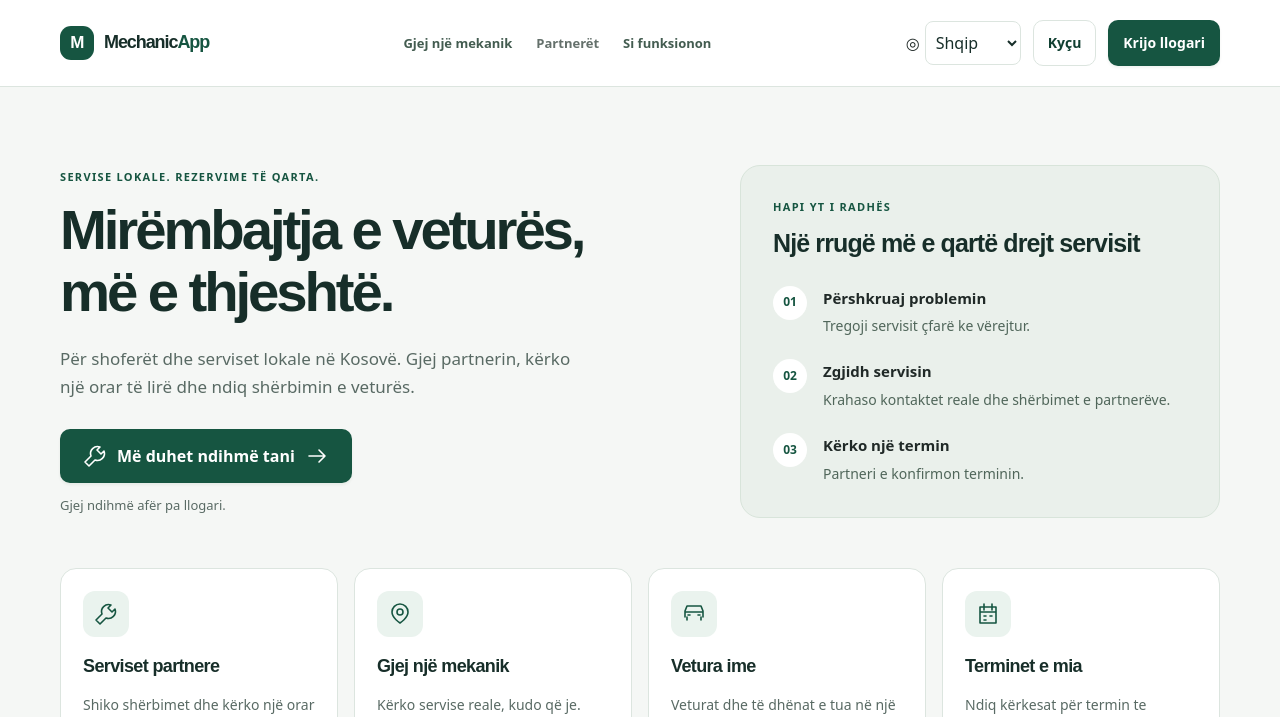
Test: changes UI language without reloading and saves the manual preference
Select "Deutsch" in the dropdown named "Language / Gjuha / Sprache" at [973, 43], box [925, 21, 1021, 65]
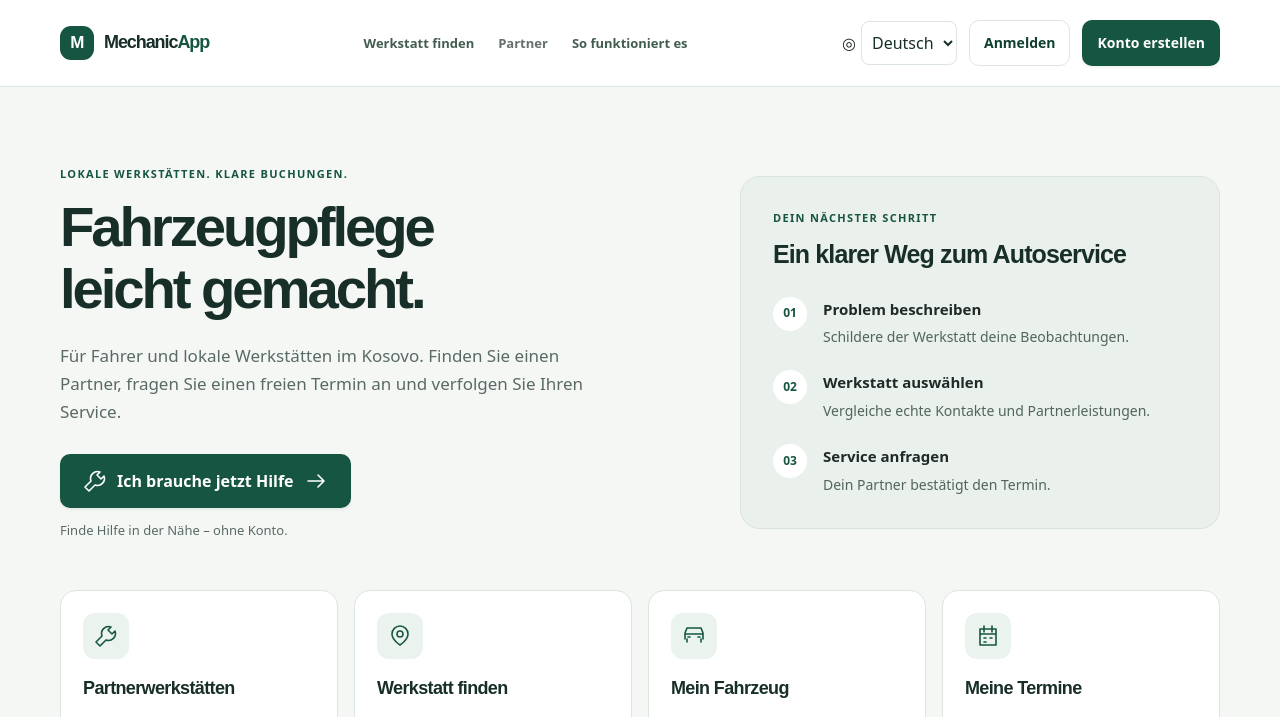
Expected: the heading "Fahrzeugpflege leicht gemacht." is shown, [60, 195, 433, 320]
Select "English" in the dropdown named "Language / Gjuha / Sprache" at [909, 43], box [861, 21, 957, 65]
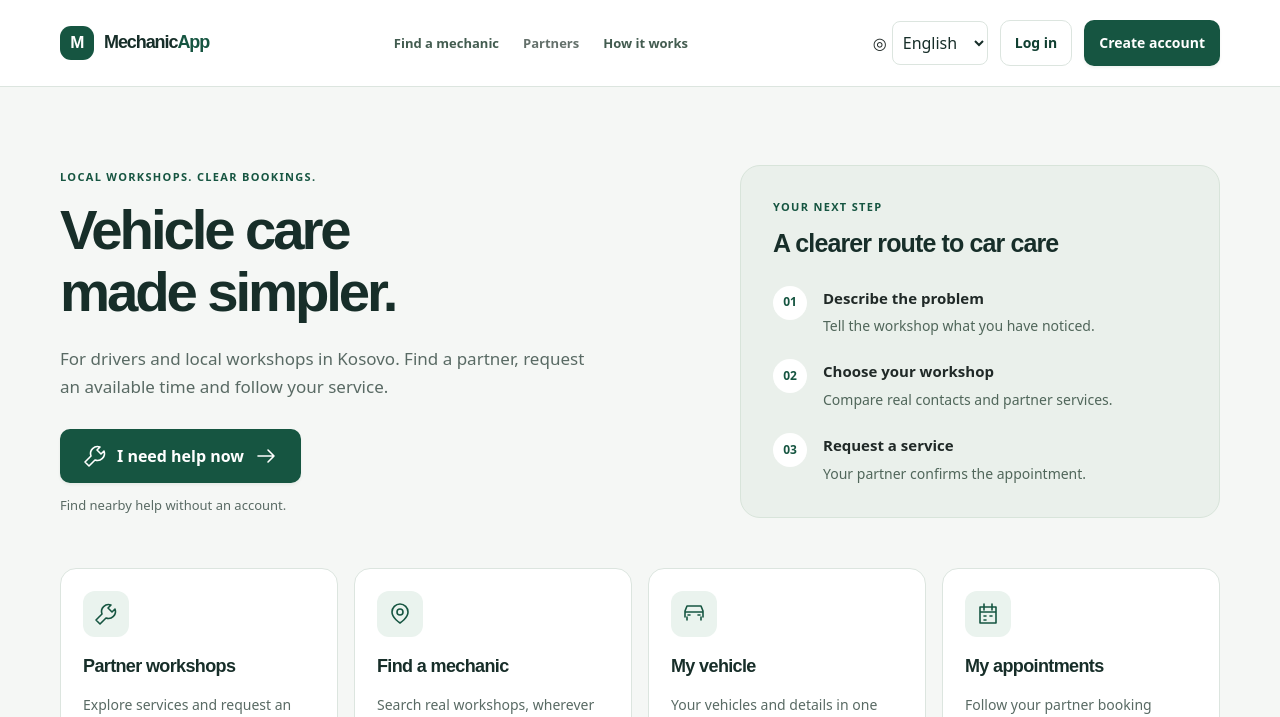
Expected: the heading "Vehicle care made simpler." is shown, [60, 198, 395, 323]
